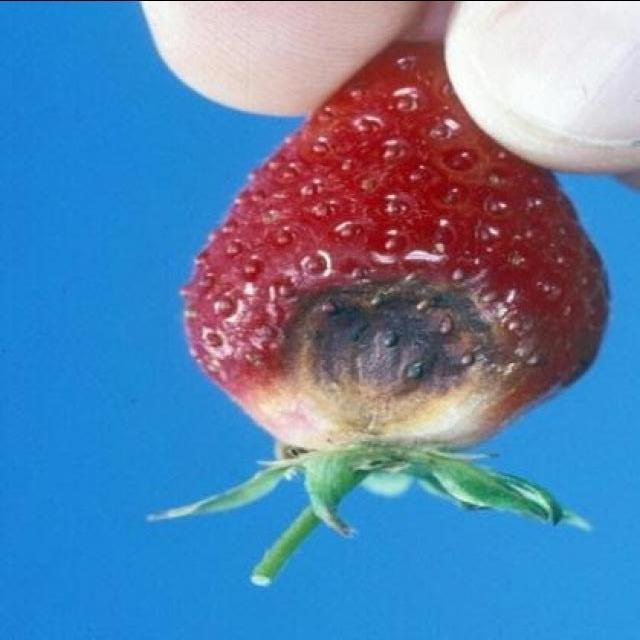Anthracnose Fruit Rot: (176, 39, 615, 587)
